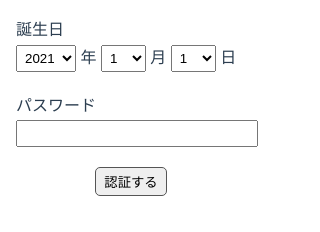
誕生日に「2021年1月1日」が選択されており、パスワードが空文字列の場合 › 【画面】パスワードに「1234」と入力してsubmitイベントを発火させると、「パスワードが違います」と表示される
Expected: the dropdown with id "year" shows "2021", [16,45,76,72]
Expected: the dropdown with id "month" shows "1", [101,45,146,72]
Type "1234" into the password field at (137, 134), box [16,120,258,147]
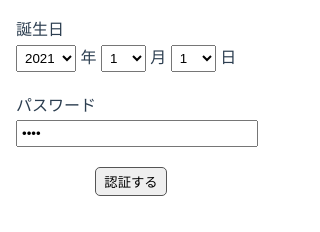
Submit the form, box [16,16,246,196]
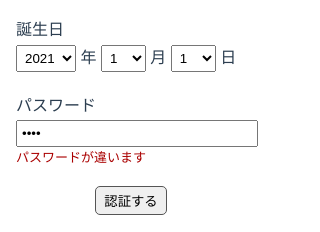
Now the text with class "error-msg" reads "パスワードが違います", box [16,150,146,165]
